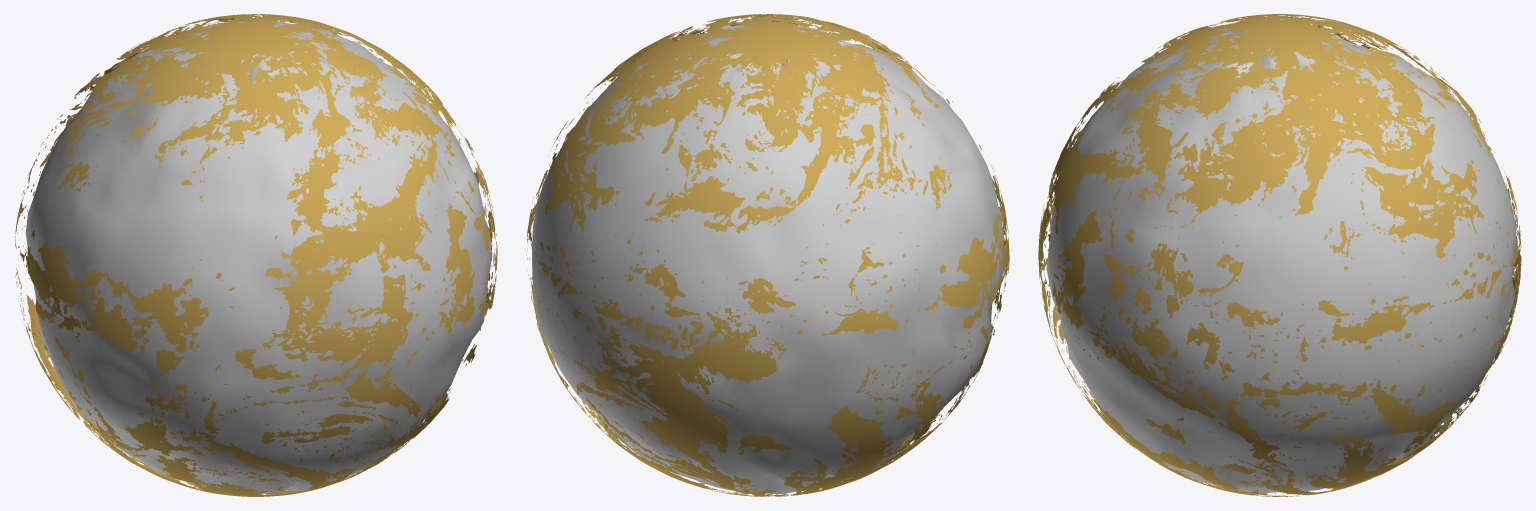
File: Планета.fbx
The picture shows the model from 3 angles, left to right: view 1: azimuth 30°, elevation 25°; view 2: azimuth 150°, elevation 25°; view 3: azimuth 270°, elevation 25°; orthographic projection.
Visible parts, largest first — view 1: Sphere_1, Sphere; view 2: Sphere_1, Sphere; view 3: Sphere_1, Sphere.
Boxes of the visible parts, x1=… form: Sphere_1: x1=25, y1=20, x2=491, y2=494; Sphere: x1=15, y1=14, x2=497, y2=496; Sphere_1: x1=531, y1=22, x2=1003, y2=494; Sphere: x1=526, y1=14, x2=1009, y2=496; Sphere_1: x1=1046, y1=25, x2=1516, y2=493; Sphere: x1=1038, y1=14, x2=1521, y2=496.
Size of the model in its own units: 211 by 211 by 211.
